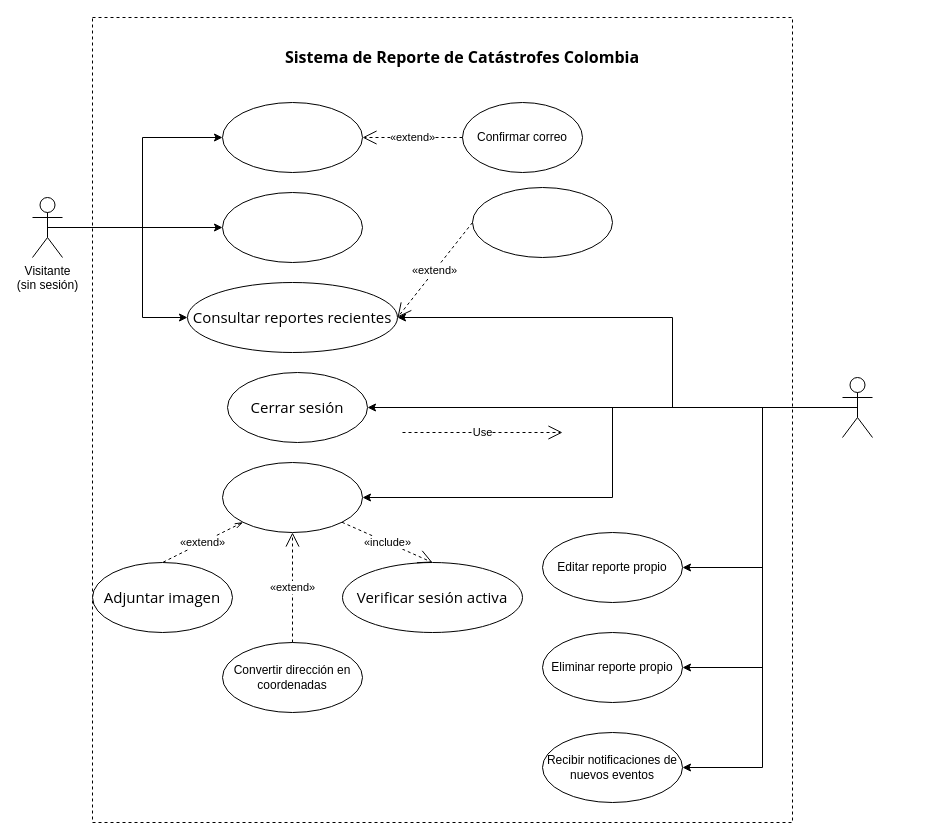
The diagram is 928 pixels wide and 840 high, and some of its shapes have lost their labels. Each missing label, with the box of its shape:
Consultar mapa interactivo: (472, 186, 612, 258)
Crear reporte: (222, 462, 362, 532)
Iniciar sesión: (222, 192, 362, 262)
Registrarse: (222, 102, 362, 172)
Usuario autenticado (Sesión activa): (842, 376, 872, 438)
